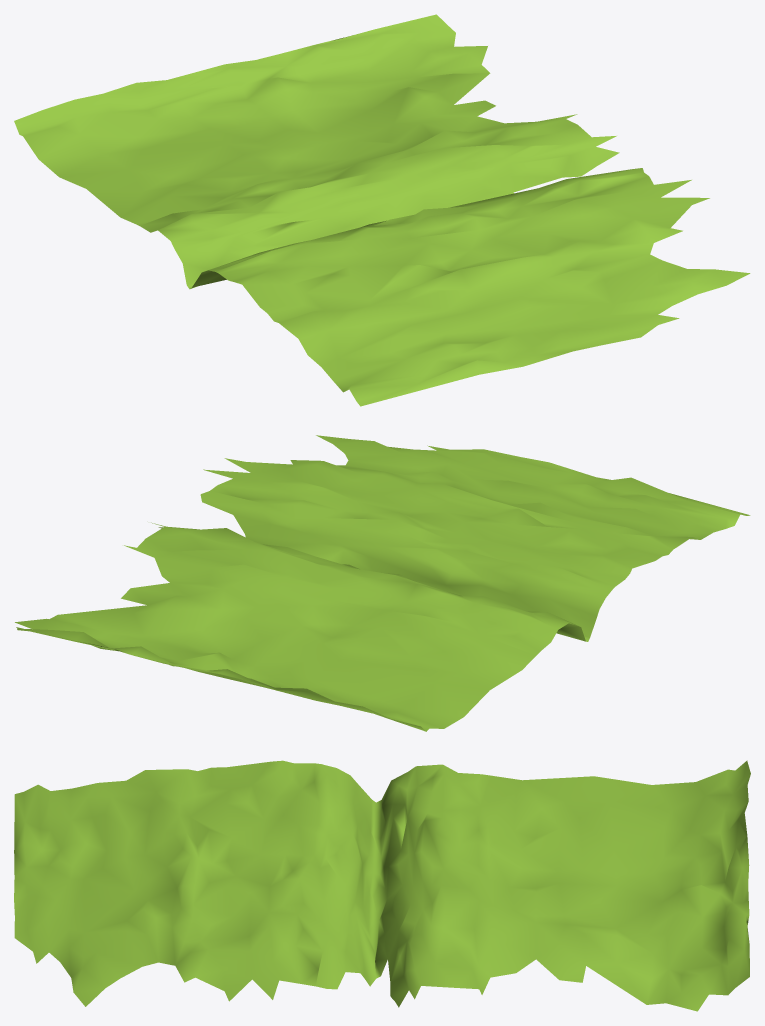
Rendered from Terrain.glb.
3 views of the same model, one above another, from view 1: azimuth 30°, elevation 25°; view 2: azimuth 150°, elevation 25°; view 3: azimuth 270°, elevation 25° (orthographic). The views are drawn at different scales.
Visible parts, largest first — view 1: Terrain; view 2: Terrain; view 3: Terrain.
Part boxes in pixels (box(x1,y1,x2,y2)): Terrain: box(14, 14, 750, 406); Terrain: box(15, 435, 750, 731); Terrain: box(14, 760, 750, 1011).
Size of the model in its own units: 23.58 by 2.6 by 31.32.
